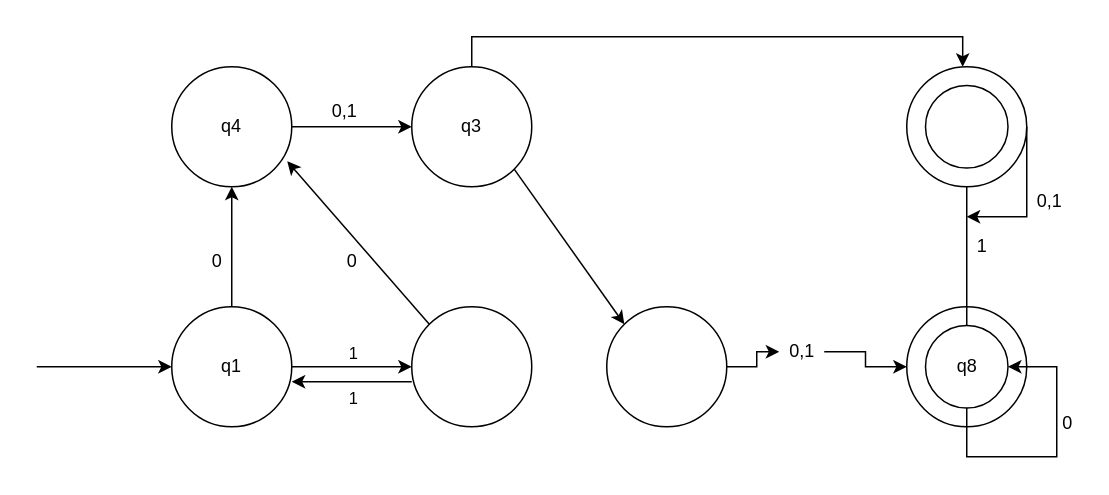
Image size: 1109x495. Some labels were removed from this diagram. The box of each missing label's shape, as (x1, y1, x2, y2) in pixels:
q2: (410, 305, 532, 427)
q6: (605, 305, 727, 427)
q7: (924, 84, 1008, 168)
